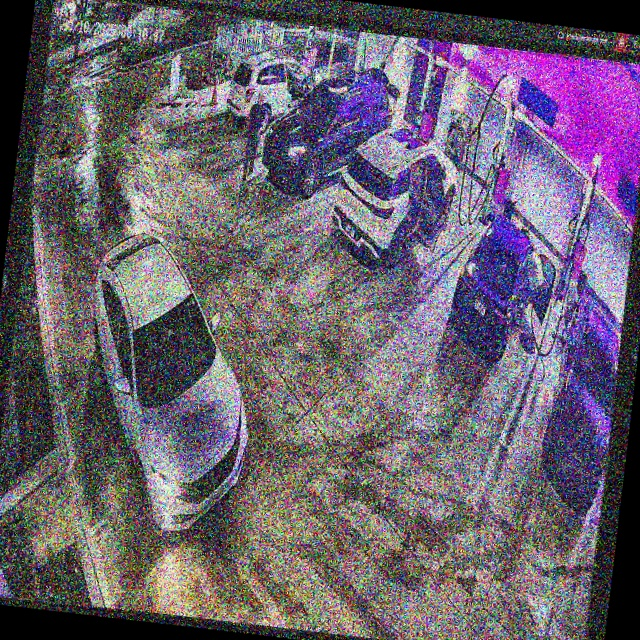Car: (66, 225, 269, 538), (326, 119, 465, 274), (259, 61, 398, 205), (447, 212, 561, 355)
